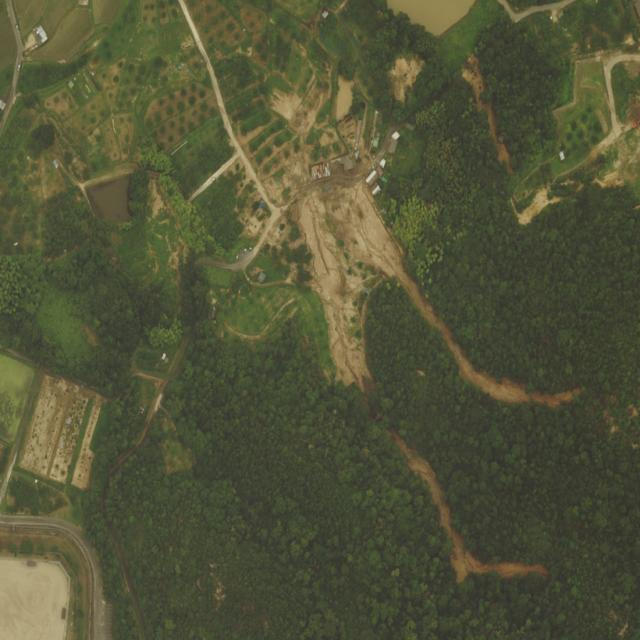landslide: (296, 183, 447, 373), (391, 431, 547, 583)
